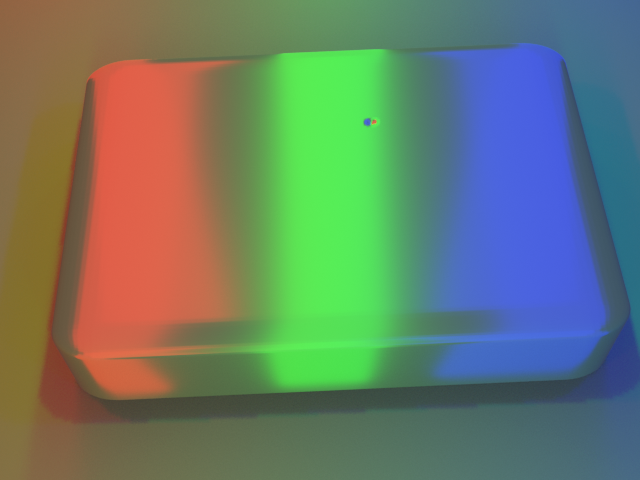dent: (355, 93, 395, 125)
